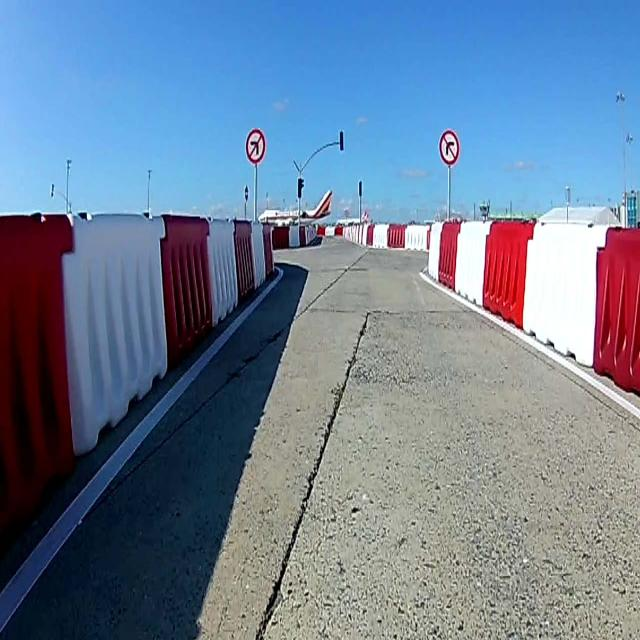sagadonulmez: (439, 131, 459, 165)
soladonulmez: (247, 128, 266, 161)
